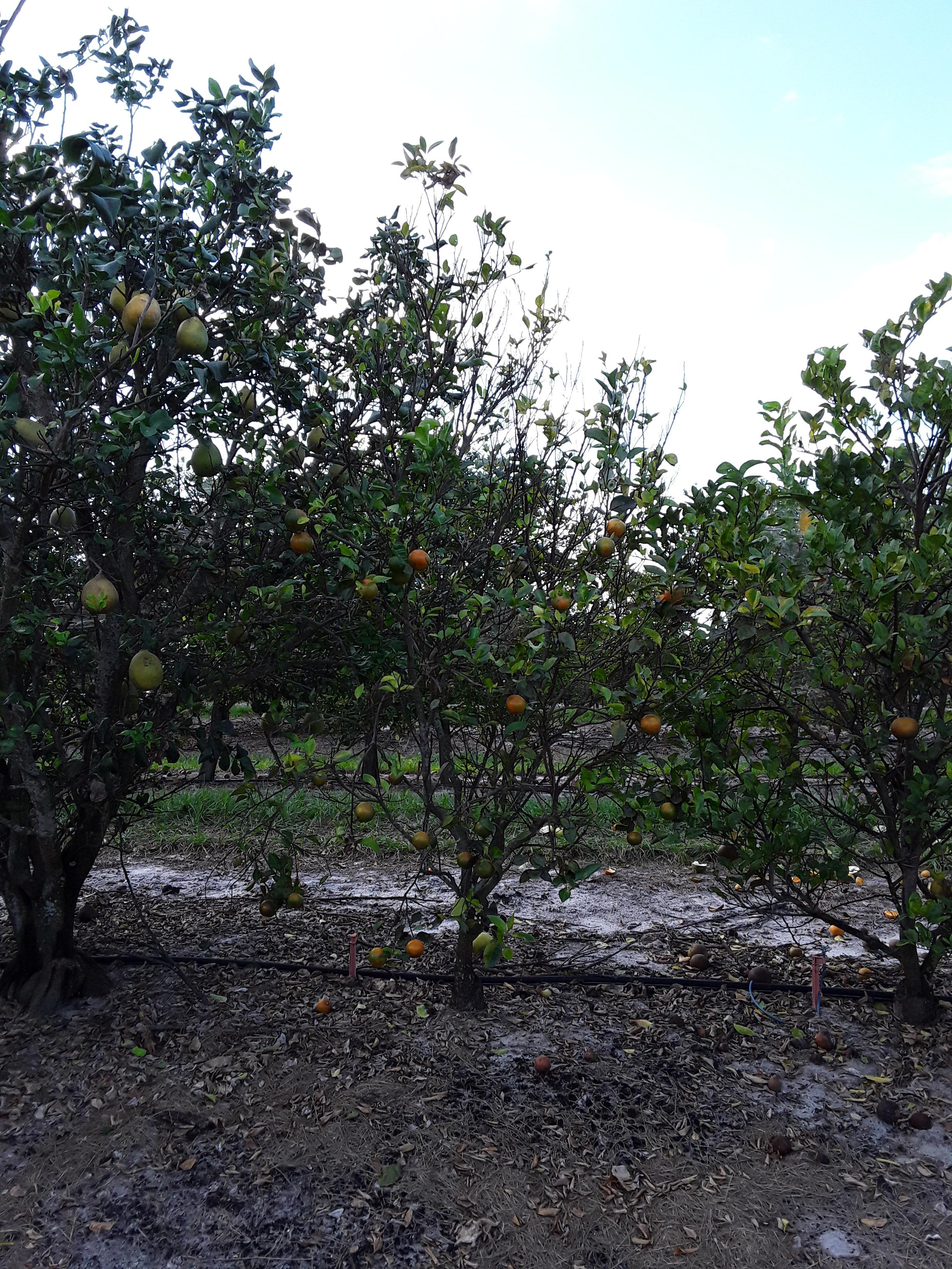fruit_on_ground: (117, 292, 164, 343), (125, 643, 166, 694), (11, 413, 56, 458), (189, 432, 227, 480), (79, 569, 116, 618), (108, 277, 144, 318), (166, 280, 201, 322), (177, 313, 210, 357), (257, 257, 289, 298), (888, 713, 924, 746), (108, 331, 135, 375), (278, 434, 308, 472), (47, 500, 78, 536), (255, 704, 285, 739), (467, 929, 497, 961), (233, 383, 260, 418), (298, 705, 328, 735), (282, 505, 313, 534), (290, 527, 316, 561), (409, 547, 432, 579), (214, 351, 241, 378), (302, 425, 327, 454), (357, 575, 381, 605), (662, 582, 689, 606), (224, 617, 247, 645), (929, 874, 952, 901), (714, 841, 742, 863), (508, 554, 532, 579), (329, 459, 350, 487), (506, 693, 531, 715), (639, 710, 660, 736), (411, 830, 432, 856), (656, 802, 682, 822), (479, 860, 499, 885), (606, 516, 626, 540), (596, 536, 616, 560), (354, 797, 373, 822), (472, 819, 495, 839), (902, 648, 921, 672), (312, 764, 331, 788), (289, 891, 308, 914), (293, 759, 312, 780), (555, 588, 572, 611), (653, 590, 675, 607), (385, 769, 406, 786), (455, 850, 471, 870), (282, 753, 296, 775), (626, 831, 644, 848), (802, 510, 817, 530), (260, 900, 276, 918)
fruit_on_tree: (873, 1096, 903, 1127), (74, 899, 105, 926), (767, 1130, 794, 1159), (746, 963, 775, 988), (532, 1052, 555, 1077), (859, 931, 883, 954), (814, 1030, 839, 1052), (367, 946, 388, 971), (314, 994, 336, 1017), (687, 952, 711, 973), (405, 938, 424, 962), (690, 855, 711, 876), (826, 919, 847, 940), (765, 1075, 788, 1092), (786, 941, 805, 960), (914, 1108, 931, 1129), (884, 904, 903, 922), (837, 870, 855, 887), (611, 816, 624, 838), (885, 935, 904, 950), (804, 867, 823, 881), (918, 865, 934, 881), (539, 985, 555, 1000), (583, 1048, 599, 1063), (790, 870, 803, 887), (895, 874, 910, 888), (855, 925, 869, 939), (603, 866, 616, 881), (730, 881, 743, 896), (858, 964, 870, 978), (855, 878, 865, 891)
